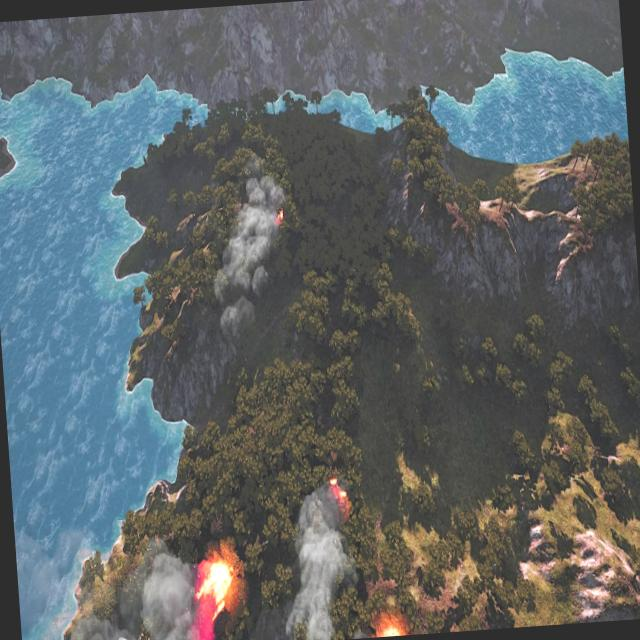fire: (192, 552, 236, 616), (378, 608, 408, 636), (329, 477, 351, 514), (272, 204, 286, 226)
smoke: (213, 483, 367, 640), (206, 154, 294, 333), (72, 532, 212, 640)
